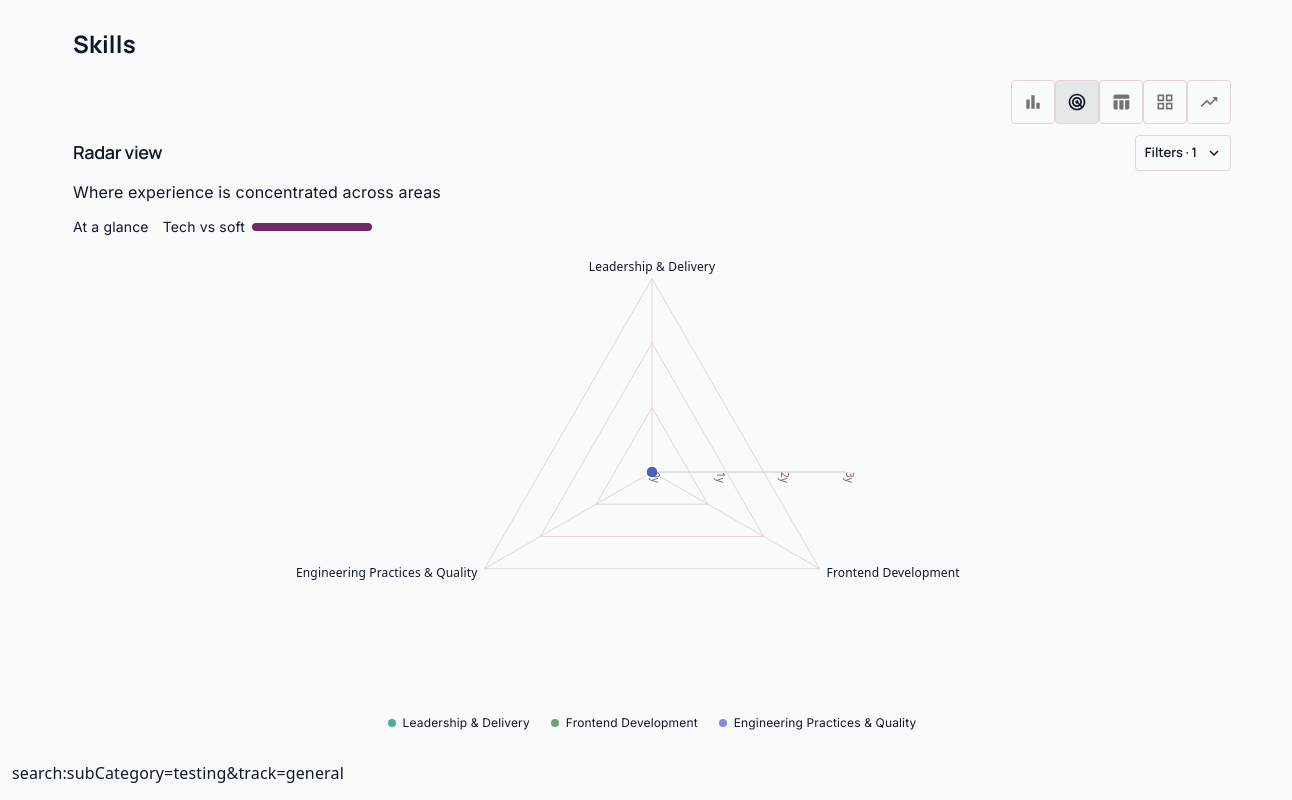
Test: Skills › subcategory filter URL sync › removes the subcategory query param when the filter is cleared
Click the button "Filters · 1" at point(1183, 153), box [1135,135,1231,171]
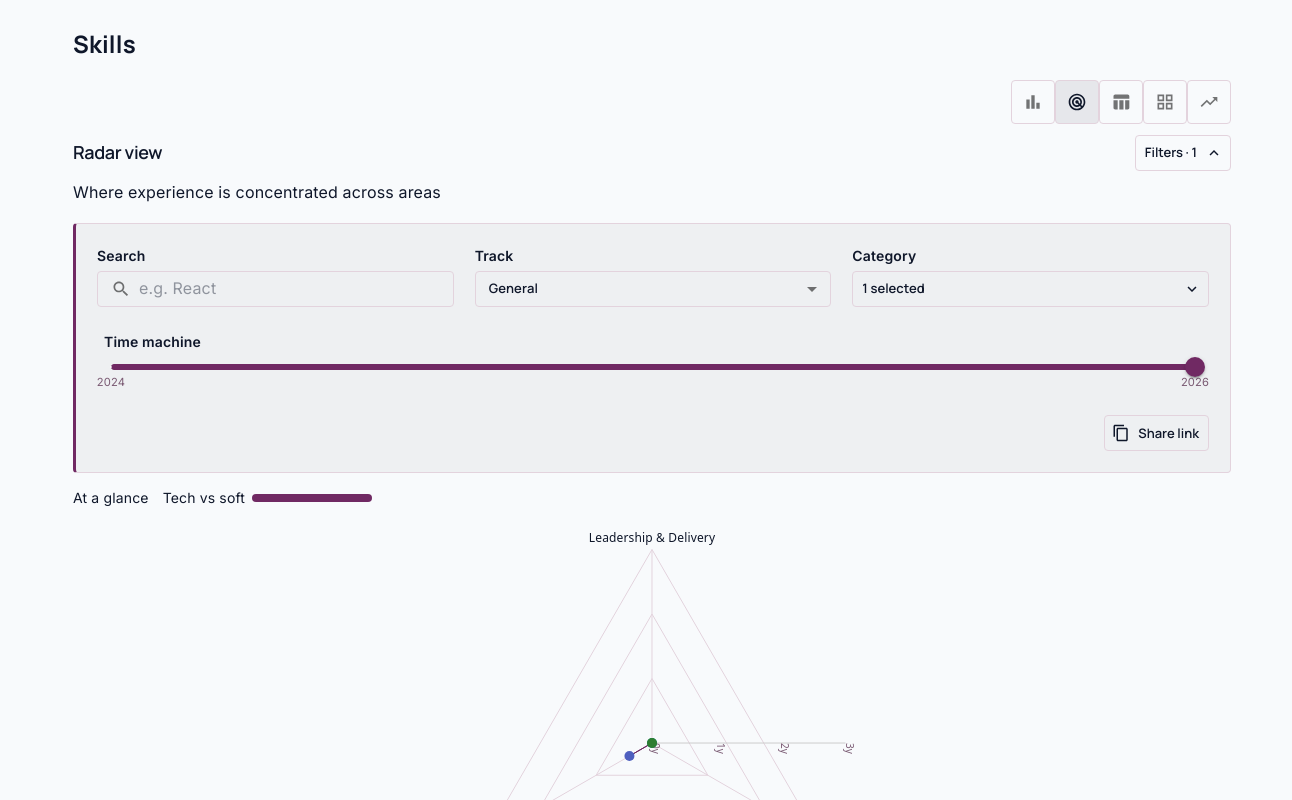
Click the button with aria-label "Filter skills by category, currently: 1 selected" at point(893, 288), box [852,271,1209,307]
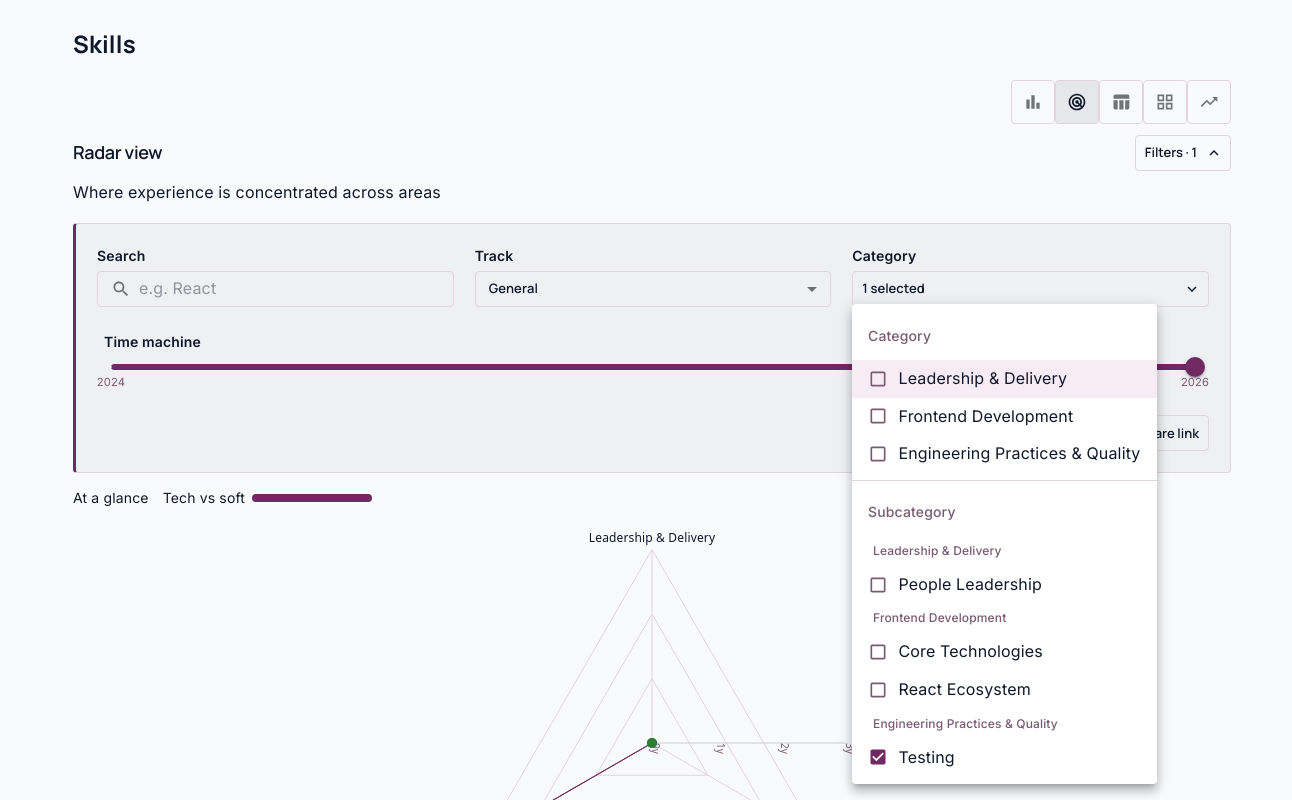
Click the menu item "Testing" at point(911, 757), box [868,747,955,767]
(page scrolled)
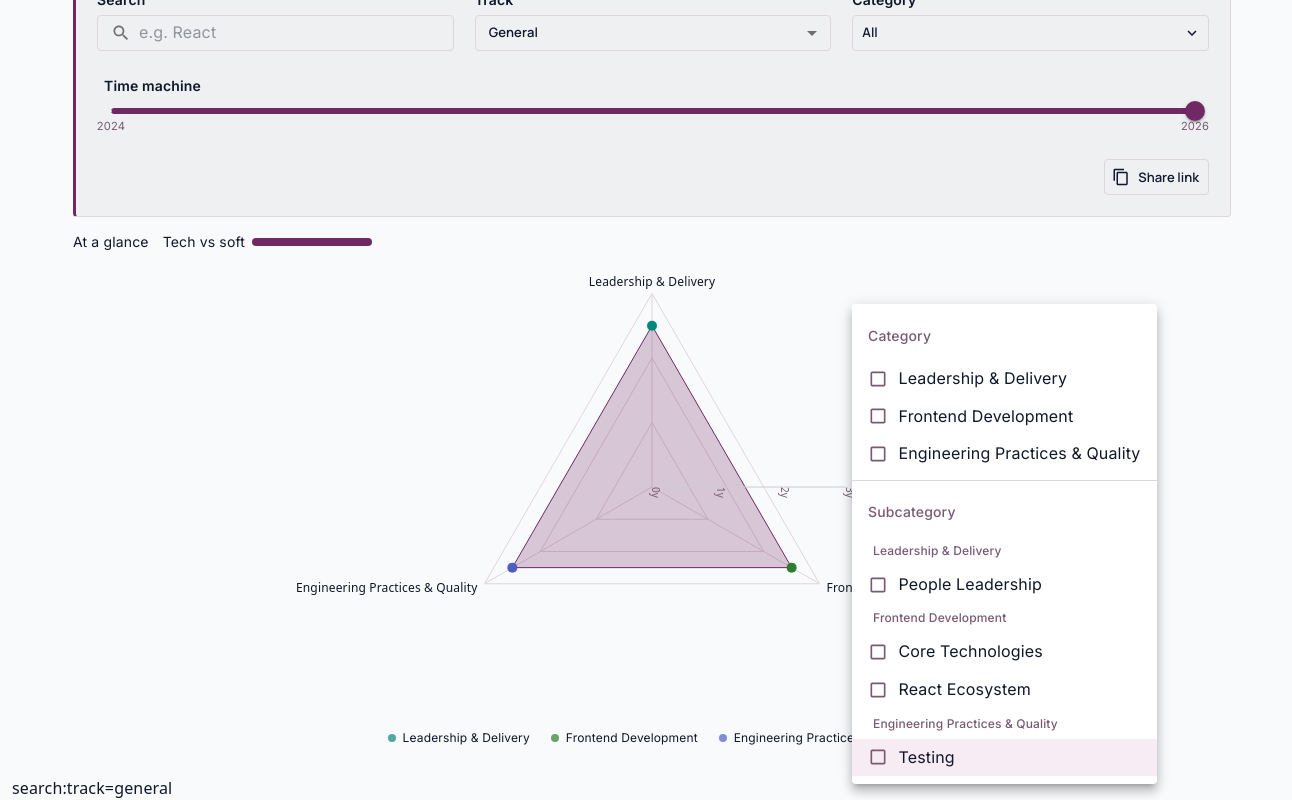
Check: the text "search:track=general" is shown, box [12,777,172,799]
